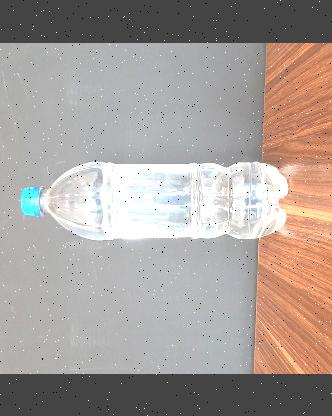Plastic Bottle: (20, 160, 288, 240)
